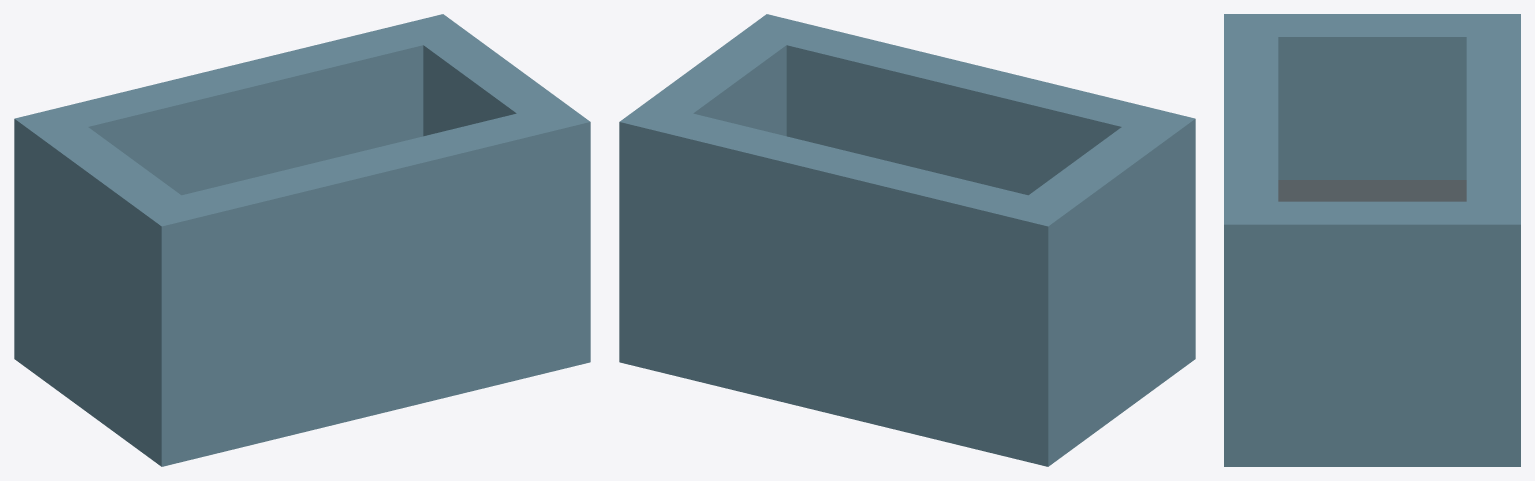
File: Rooftop_Ventilation_06.glb
The picture shows the model from 3 angles, left to right: view 1: azimuth 30°, elevation 25°; view 2: azimuth 150°, elevation 25°; view 3: azimuth 270°, elevation 25°; orthographic projection.
Parts seen in each view (by area): view 1: Rooftop_Ventilation_06; view 2: Rooftop_Ventilation_06; view 3: Rooftop_Ventilation_06.
Boxes of the visible parts, <box> form: Rooftop_Ventilation_06: <box>14,14,590,466</box>; Rooftop_Ventilation_06: <box>619,14,1195,466</box>; Rooftop_Ventilation_06: <box>1224,14,1520,466</box>.
Bounding box in the file's own units: 1.36 × 0.7279 × 0.8089.
Materials: 1 (1 with a texture image).
